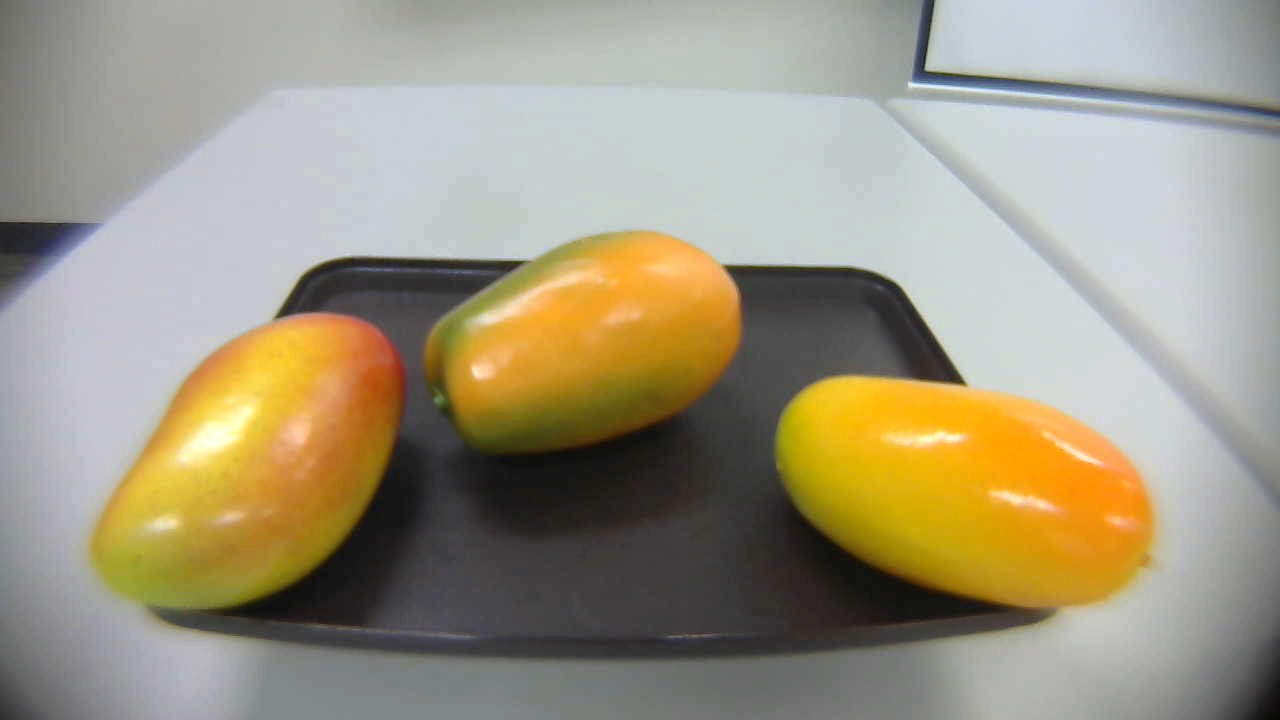papya: (418, 227, 757, 458)
red mango: (86, 311, 412, 616)
yellow mango: (768, 374, 1164, 616)
